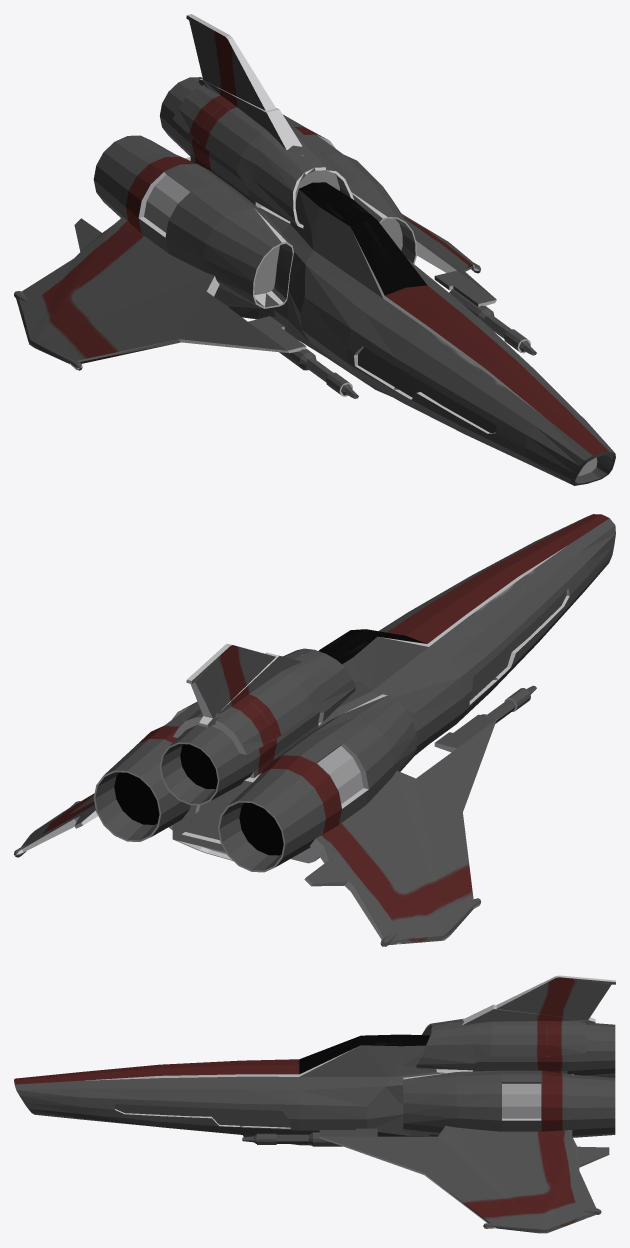
The model's file is ship.obj.
The picture shows the model from 3 angles, top to bottom: view 1: azimuth 30°, elevation 25°; view 2: azimuth 150°, elevation 25°; view 3: azimuth 270°, elevation 25°; orthographic projection. The views are drawn at different scales.
Visible parts, largest first — view 1: untitled_untitled_Material.000; view 2: untitled_untitled_Material.000; view 3: untitled_untitled_Material.000.
Part boxes in pixels (x1,y1,x2,y2): untitled_untitled_Material.000: (14,14,615,485); untitled_untitled_Material.000: (14,514,615,946); untitled_untitled_Material.000: (14,975,615,1233).
Bounding box in the file's own units: 3.92 × 2.28 × 6.75.
Materials: 1 (1 with a texture image).
